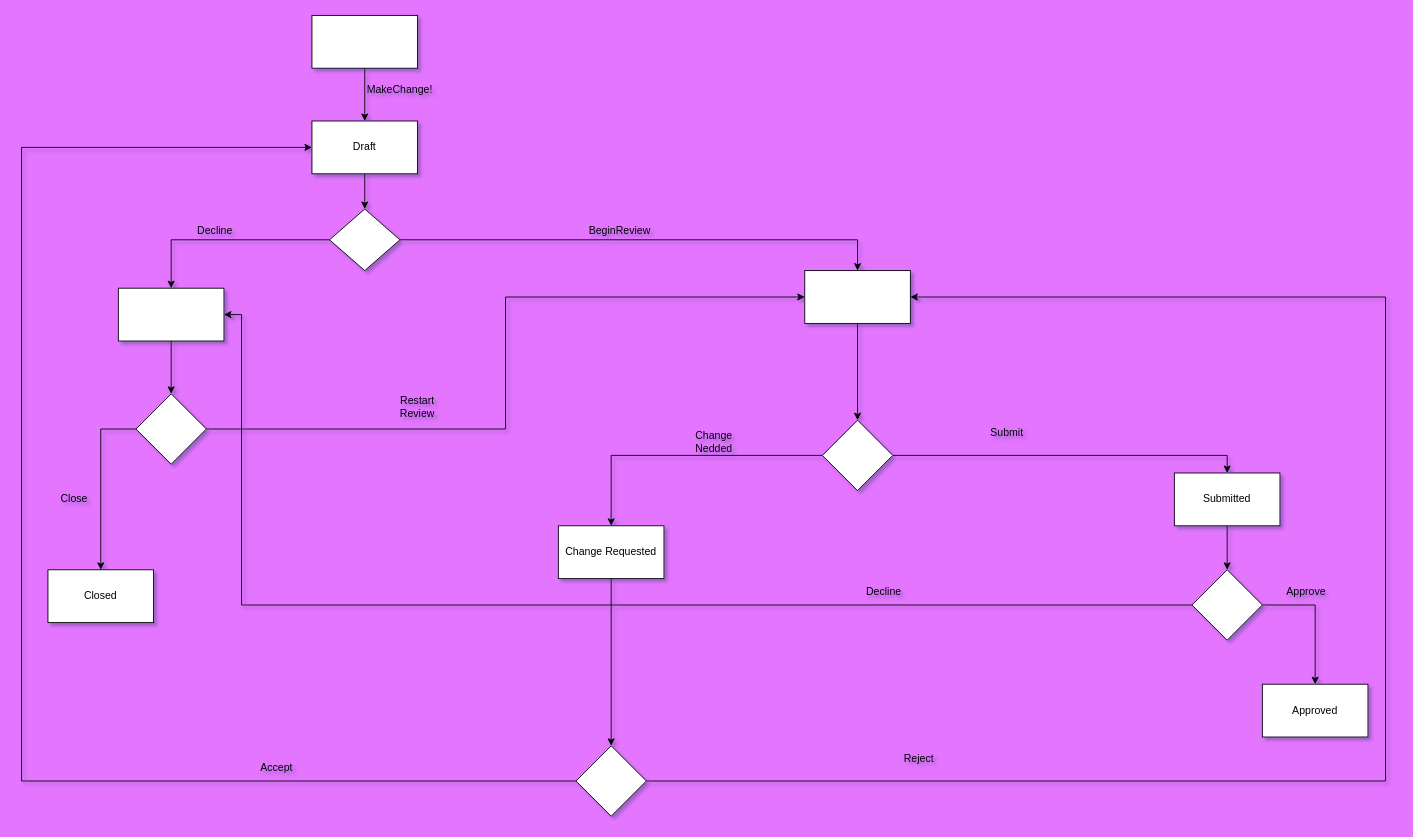
Image size: 1413x837. Some labels were removed from this diagram. The centre of each missing label's shape, as x and y in pixels:
"Declined" goes at point 170,314.
"None" goes at point 364,41.
"Review" goes at point 857,296.
